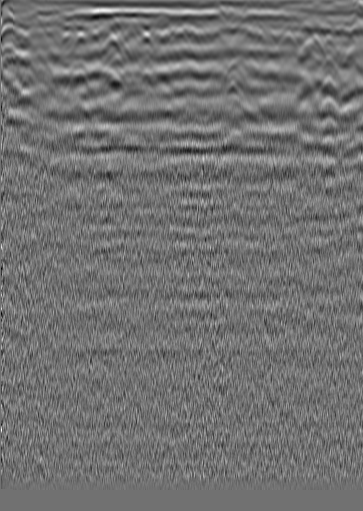가스: (218, 103, 253, 125)
상수: (298, 33, 328, 53)
오수: (27, 13, 47, 33)
우수: (161, 23, 181, 43)
